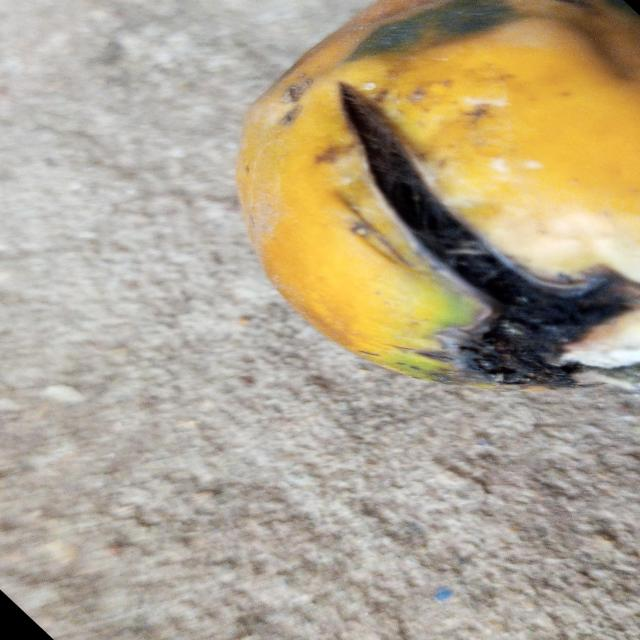damaged: (237, 0, 640, 390)
